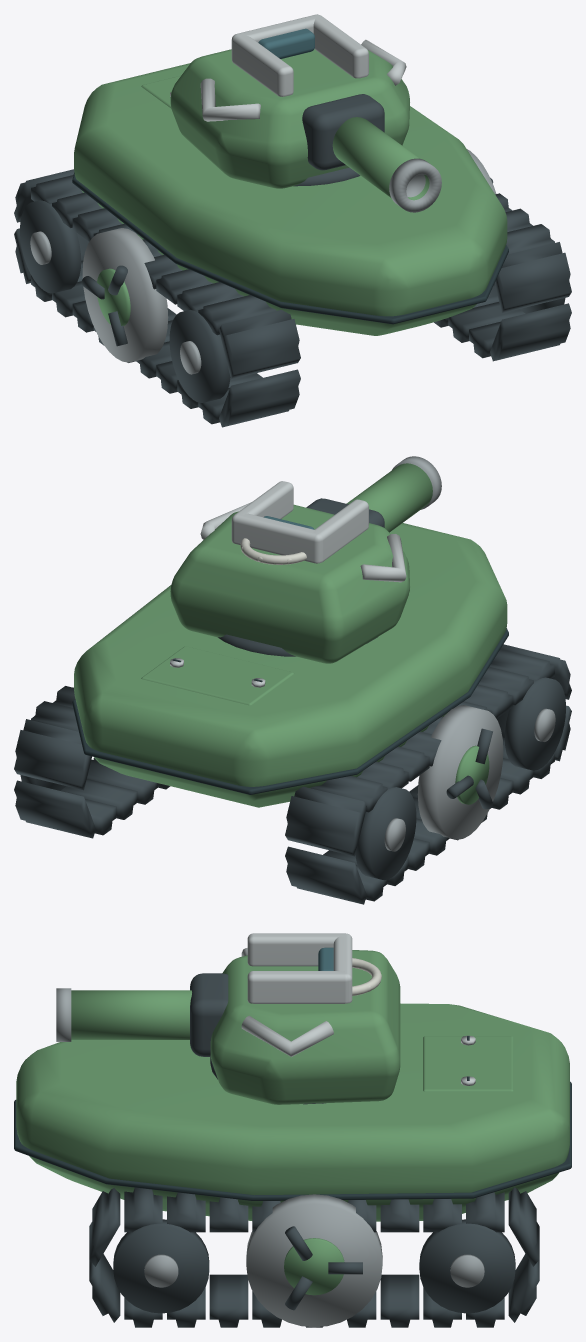
File: TOY_BANKER.hi.glb
3 renders of one model, top to bottom at view 1: azimuth 30°, elevation 25°; view 2: azimuth 150°, elevation 25°; view 3: azimuth 270°, elevation 25°, orthographic. The views are drawn at different scales.
Parts seen in each view (by area): view 1: Body, TurretYaw, WheelLeft, BarrelRecoil; view 2: Body, TurretYaw, WheelLeft, BarrelRecoil; view 3: Body, TurretYaw, WheelRight, BarrelRecoil.
Boxes of the visible parts, left/top/right/bottom form: Body: left=14, top=63, right=571, bottom=427; TurretYaw: left=170, top=14, right=409, bottom=188; WheelLeft: left=81, top=228, right=168, bottom=362; BarrelRecoil: left=332, top=117, right=441, bottom=212; Body: left=14, top=523, right=571, bottom=904; TurretYaw: left=170, top=481, right=409, bottom=663; WheelLeft: left=417, top=705, right=503, bottom=839; BarrelRecoil: left=346, top=456, right=441, bottom=532; Body: left=14, top=1003, right=571, bottom=1327; TurretYaw: left=190, top=933, right=400, bottom=1104; WheelRight: left=246, top=1194, right=382, bottom=1327; BarrelRecoil: left=56, top=988, right=191, bottom=1041.
Size of the model in its own units: 0.7288 by 0.525 by 0.9173.
